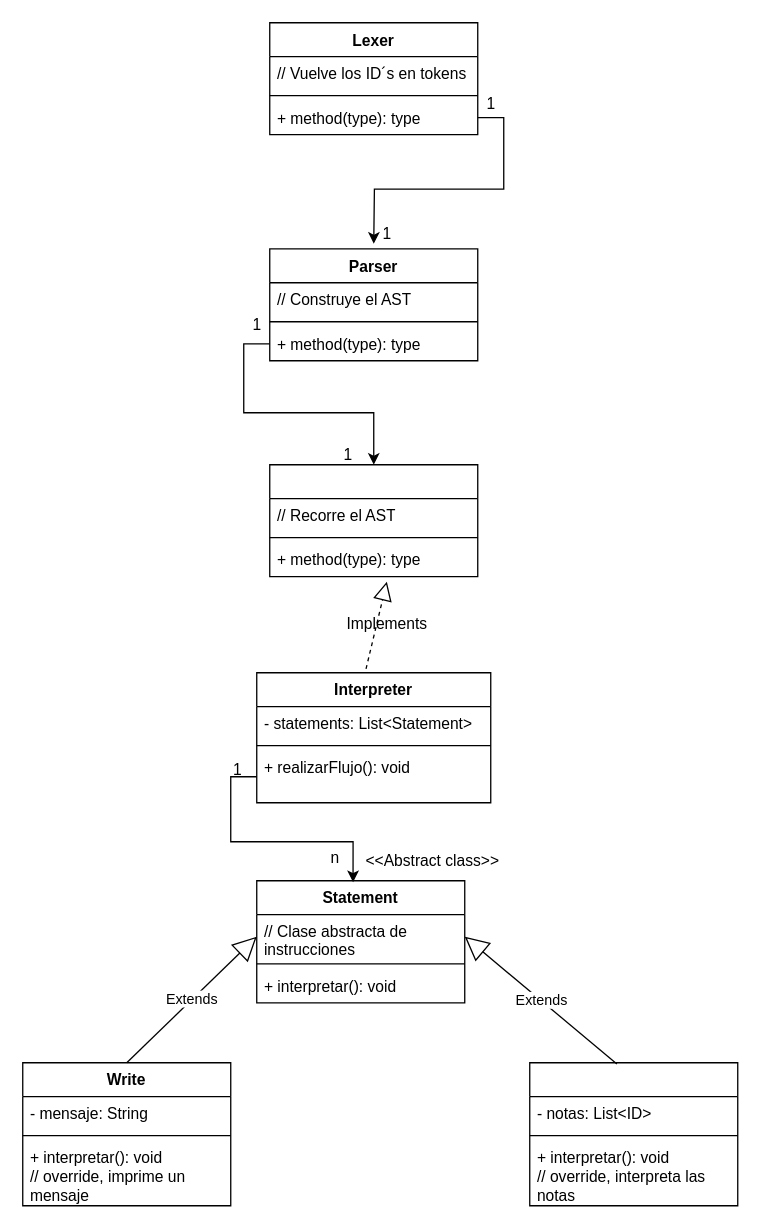
Image size: 761x1232. Some labels were removed from this diagram. The box of each missing label's shape, as (x1, y1, x2, y2) in pixels:
InstructionBlock: (528, 1061, 738, 1206)
Visitor: (268, 463, 478, 577)
